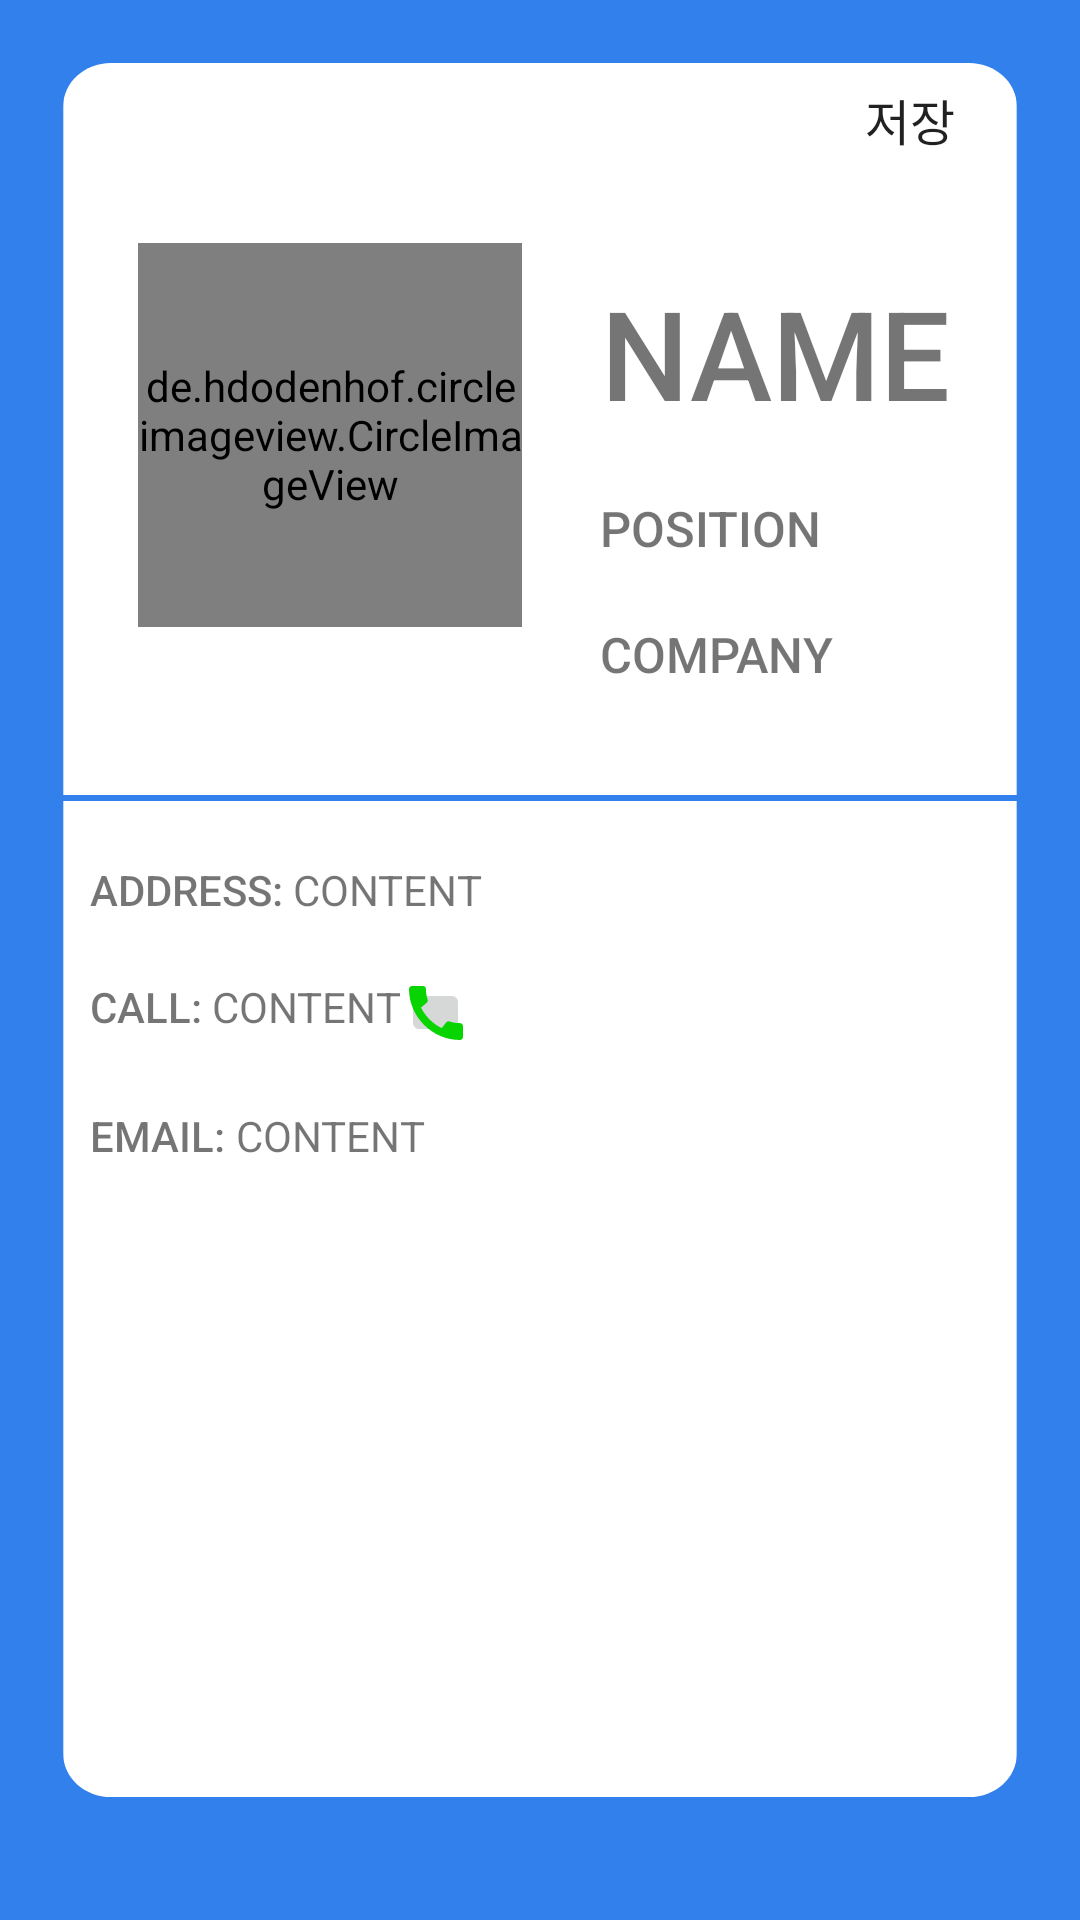

Locate icon controls on the screen. Image size 1080*1920, boxes as bbox=(x1, y1, x2, y2).
call: bbox=(409, 986, 463, 1040)
